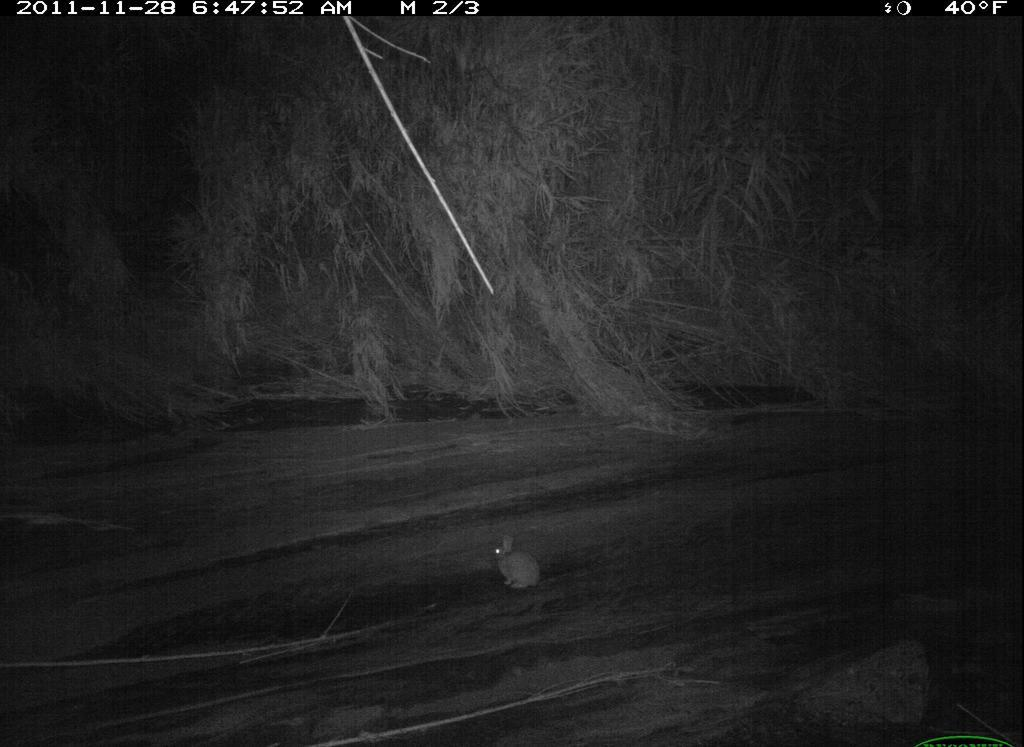rabbit: (489, 530, 548, 592)
